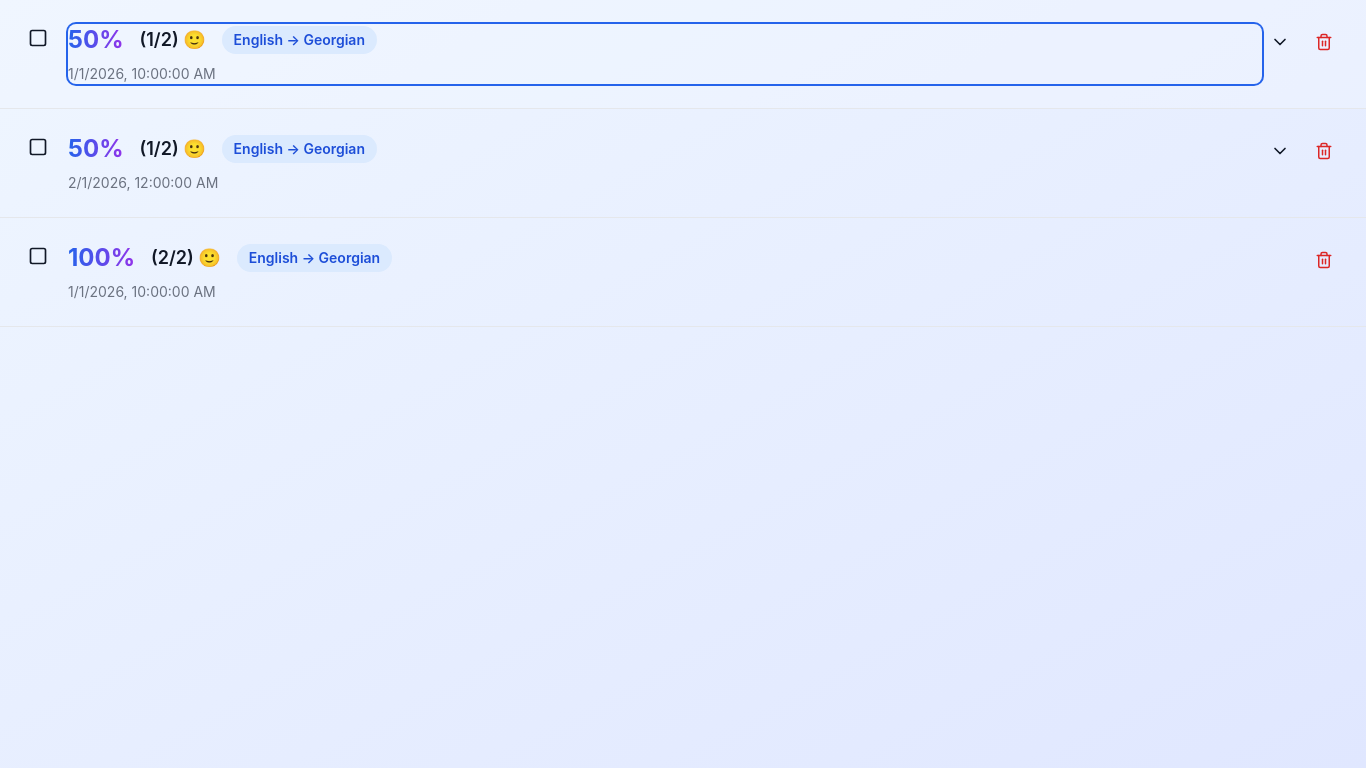
History summary interaction › supports Enter/Space and retains one expanded record across summary and chevron actions
This screenshot has width=1366, height=768.
Step 1. Press Enter
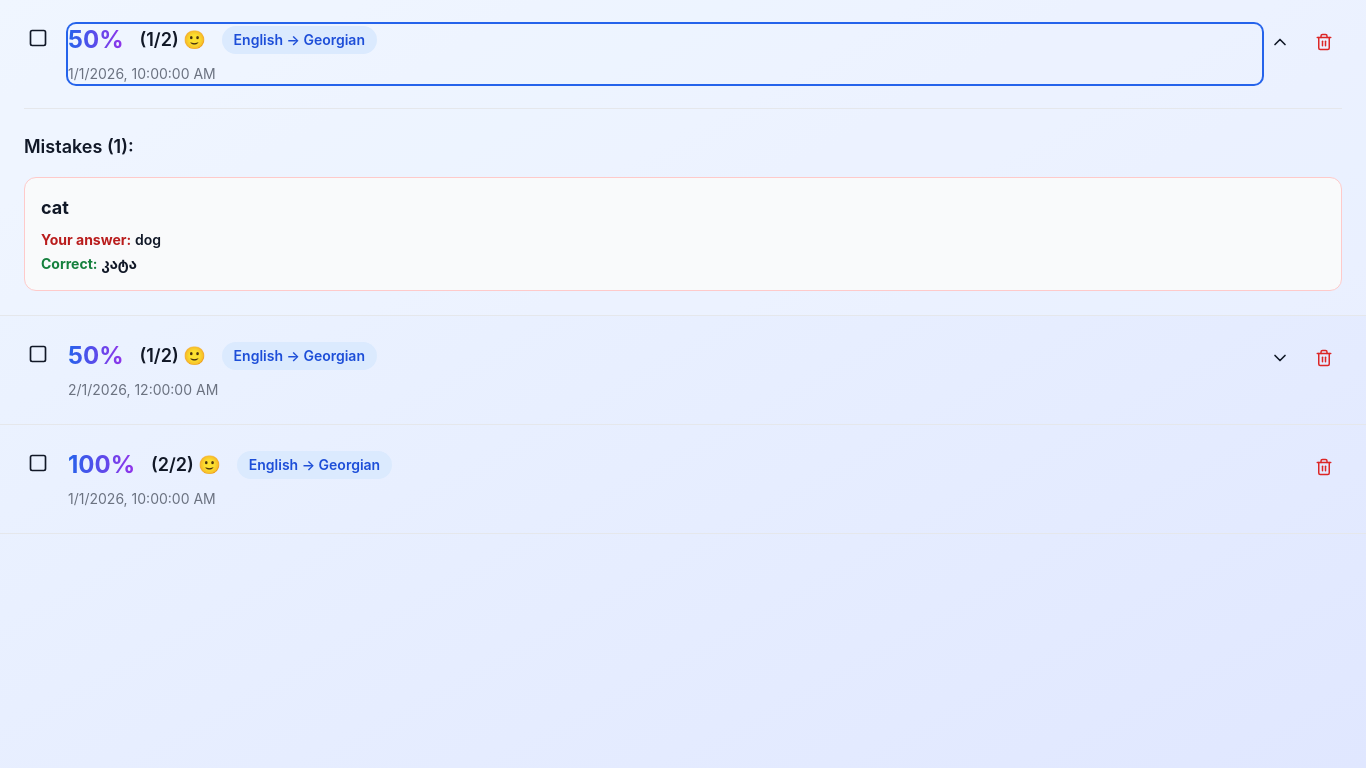
Expected: the text "Mistakes (1):" is shown, [24,136,134,157]
Step 2. Type keys " "
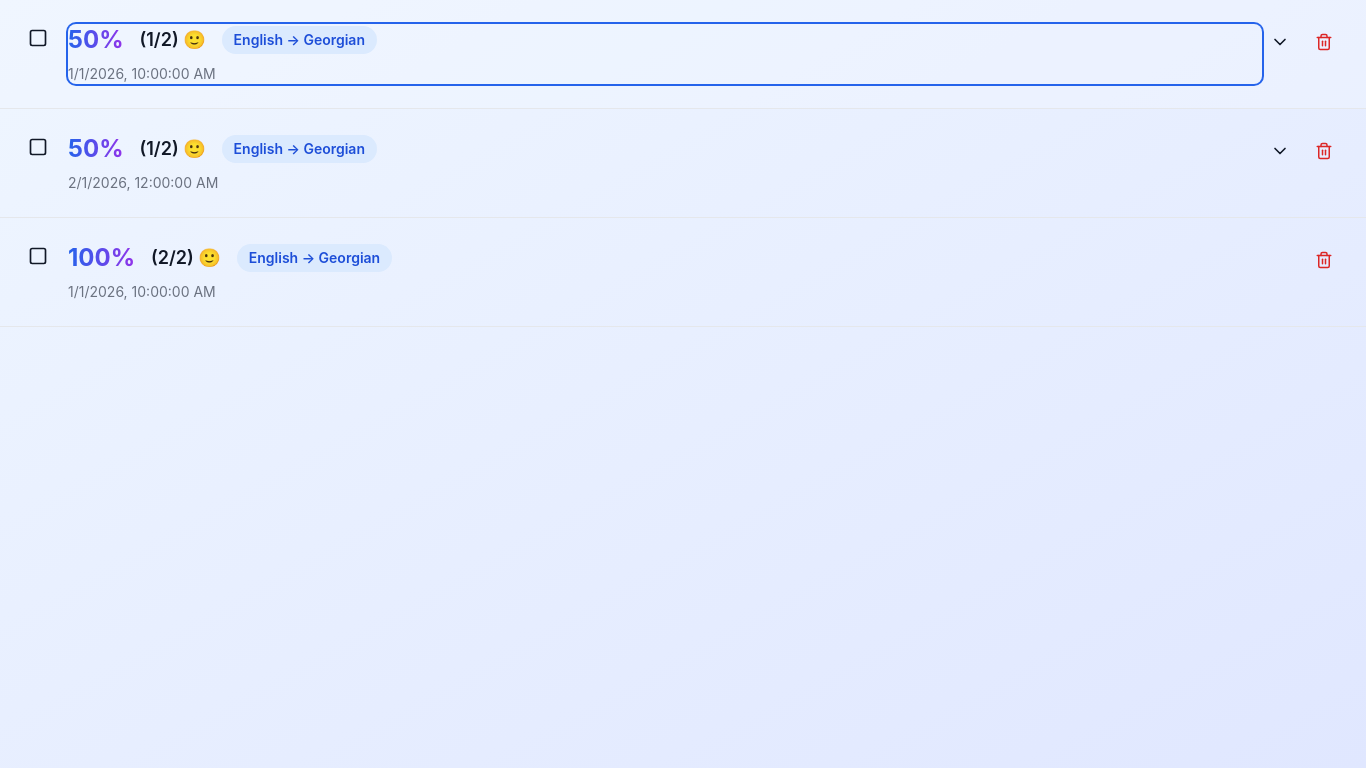
Expected: the text "Mistakes (1):" is gone
Step 3. Click the 1st button named "Show mistakes" → (1280, 42), box [1262,24,1298,60]
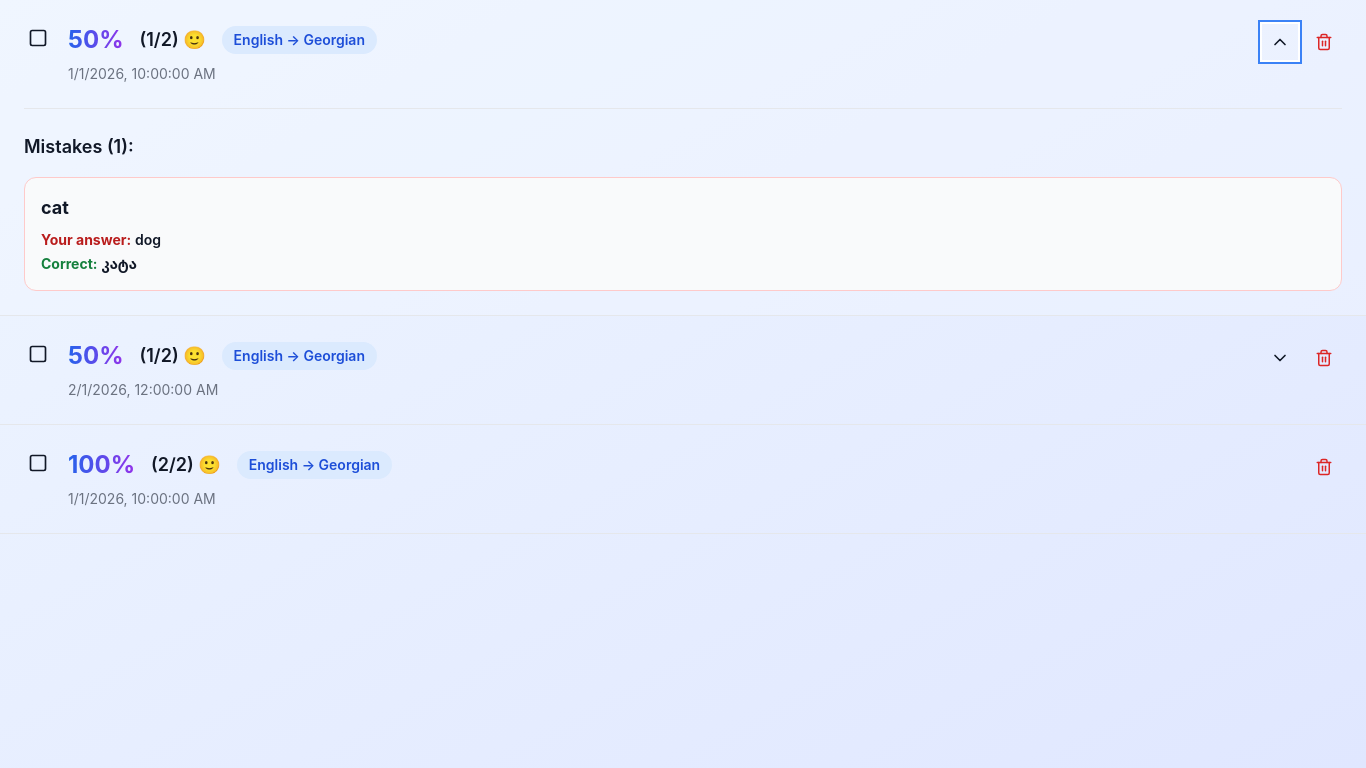
Step 4. Click the button with aria-label "Expand record" → (96, 356), box [68,340,1262,400]
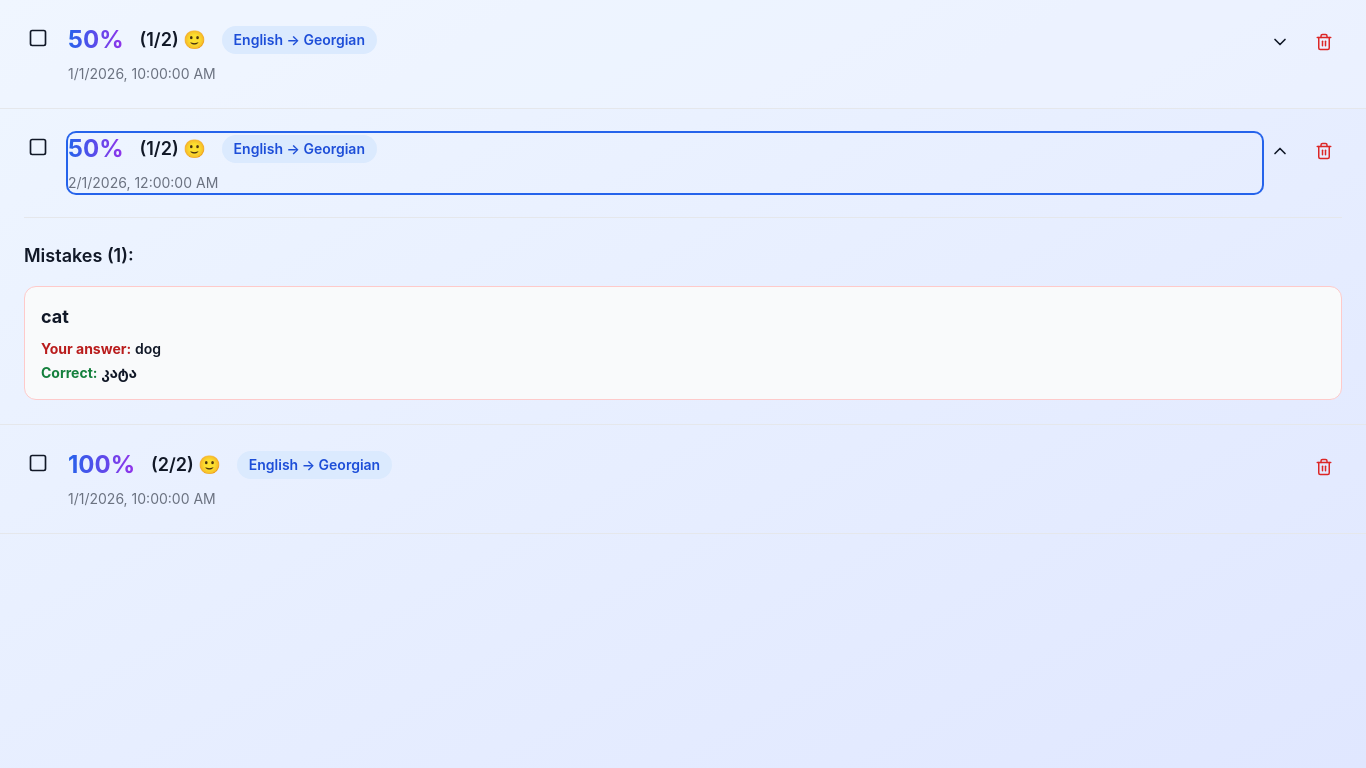
Expected: the button named "Hide mistakes" is expanded, [1262,133,1298,169]
